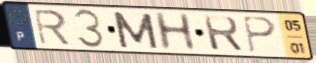3: (71, 7, 107, 50)
H: (151, 11, 199, 52)
M: (110, 10, 162, 50)
P: (240, 14, 279, 55)
R: (201, 15, 246, 54), (31, 8, 73, 47)
